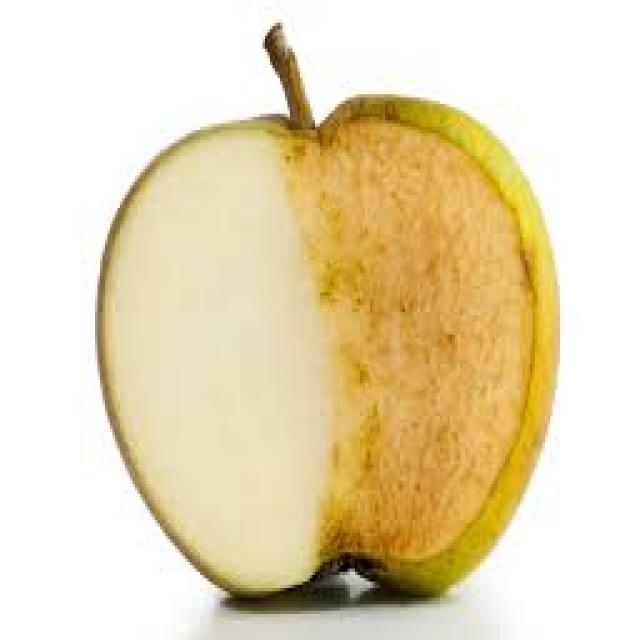Apple: (99, 96, 555, 604)
